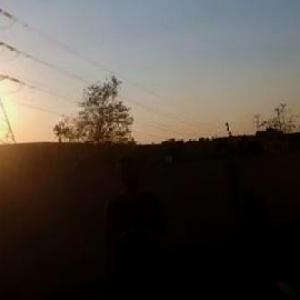follow: (101, 149, 170, 299)
